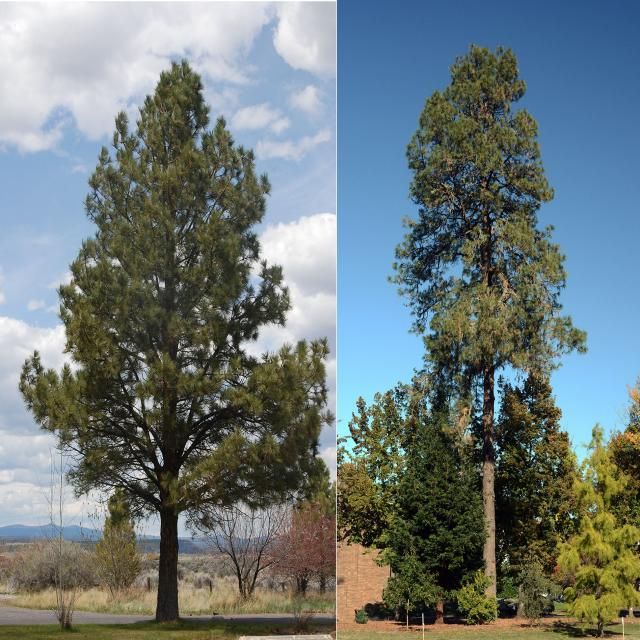Pinus ponderosa: (17, 61, 329, 604), (381, 41, 589, 614)
